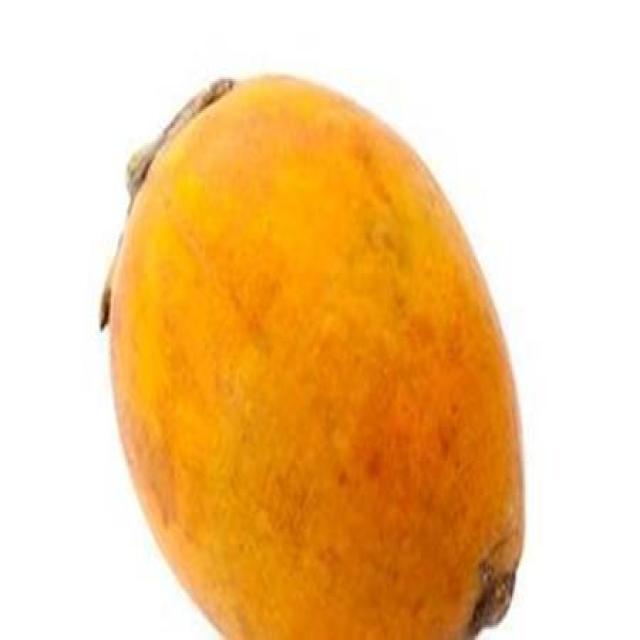good: (100, 77, 526, 638)
